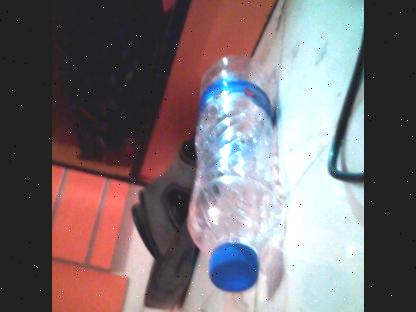Plastic Bottle: (187, 55, 283, 305)
